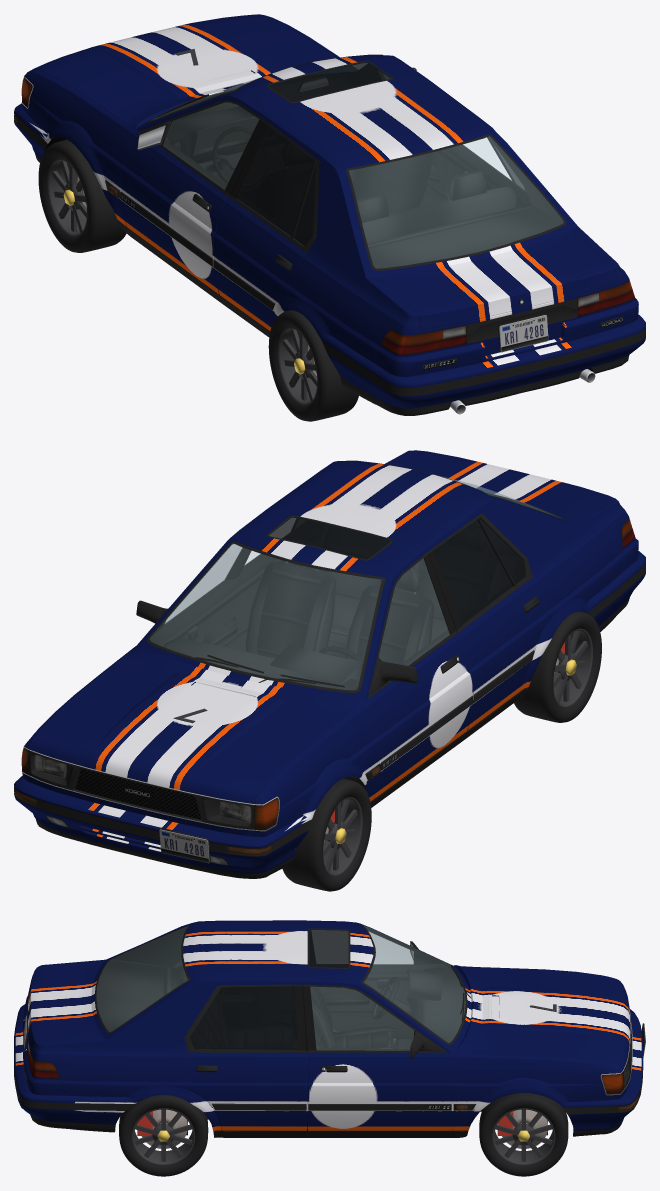
Rendered from kiri.glb.
The picture shows the model from 3 angles, top to bottom: view 1: azimuth 30°, elevation 25°; view 2: azimuth 150°, elevation 25°; view 3: azimuth 270°, elevation 25°; orthographic projection. The views are drawn at different scales.
Parts seen in each view (by area): view 1: Body, Rear_Glass, Bumper_R, Hood, Interior, Trunk, Window_FL, Tire_FL, Tire_RL, Door_FL, Rim_RL, Rim_FL (+4 smaller); view 2: Body, Hood, Interior, Windshield, Bumper_F, Trunk, Window_FL, Tire_FL, Tire_RL, Bumper_R, Rim_RL, Rim_FL (+5 smaller); view 3: Body, Hood, Interior, Windshield, Rear_Glass, Bumper_R, Window_FR, Trunk, Tire_FR, Bumper_F, Tire_RR, Rim_FR (+9 smaller).
Boxes of the visible parts, x1,y1,x2,y2 form: Body: (21, 14, 635, 362); Rear_Glass: (349, 136, 563, 268); Bumper_R: (314, 298, 645, 415); Hood: (35, 14, 336, 128); Interior: (140, 54, 467, 242); Trunk: (378, 230, 613, 315); Window_FL: (163, 102, 258, 189); Tire_FL: (38, 139, 126, 252); Tire_RL: (268, 310, 358, 421); Door_FL: (137, 100, 269, 212); Rim_RL: (277, 327, 317, 406); Rim_FL: (47, 158, 87, 237); Body: (21, 450, 635, 836); Hood: (30, 646, 362, 803); Interior: (146, 515, 448, 698); Windshield: (149, 543, 381, 689); Bumper_F: (14, 775, 314, 878); Trunk: (393, 450, 613, 521); Window_FL: (379, 558, 449, 665); Tire_FL: (282, 778, 371, 891); Tire_RL: (514, 611, 601, 722); Bumper_R: (581, 539, 645, 631); Rim_RL: (553, 628, 592, 707); Rim_FL: (323, 797, 362, 875); Body: (23, 920, 632, 1137); Hood: (454, 965, 630, 1069); Interior: (223, 924, 481, 1111); Windshield: (364, 926, 465, 1042); Rear_Glass: (96, 926, 188, 1031); Bumper_R: (14, 995, 142, 1132); Window_FR: (310, 987, 413, 1050); Trunk: (31, 963, 102, 1042); Tire_FR: (479, 1093, 568, 1176); Bumper_F: (559, 1009, 645, 1136); Tire_RR: (119, 1095, 208, 1176); Rim_FR: (492, 1108, 555, 1165).
Size of the model in its own units: 1.94 by 1.5 by 4.82.
Materials: 20 (7 with a texture image).
